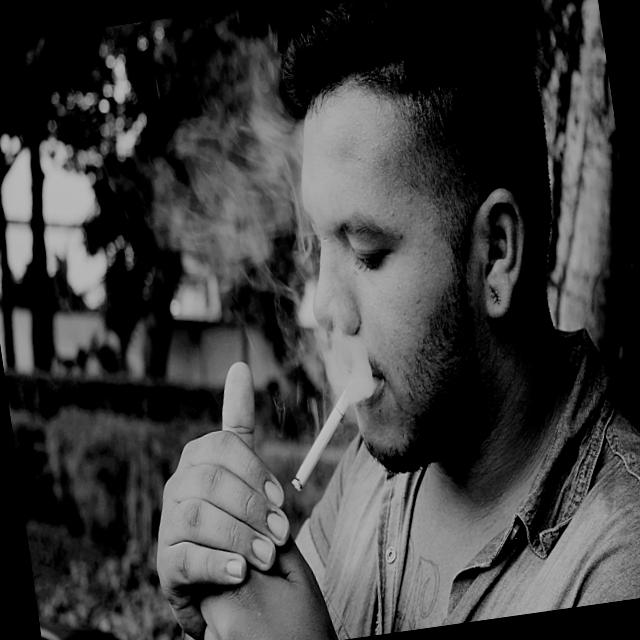smoke: (274, 375, 372, 506)
